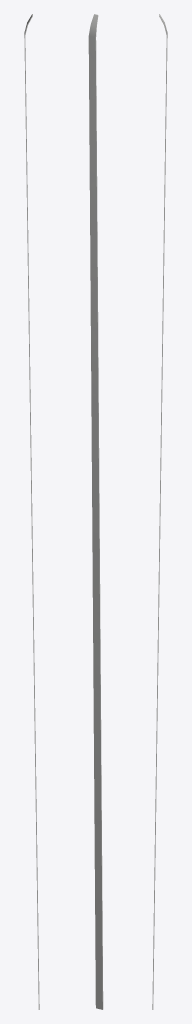
The model's file is PartyBalloons03_String1.FBX.
3 renders of one model, left to right at view 1: azimuth 90°, elevation 25°; view 2: azimuth 150°, elevation 25°; view 3: azimuth 270°, elevation 25°, orthographic.
Parts seen in each view (by area): view 1: PartyBalloons03_String1; view 2: PartyBalloons03_String1; view 3: PartyBalloons03_String1.
Boxes of the visible parts, x1,y1,x2,y2 form: PartyBalloons03_String1: (24, 14, 39, 1009); PartyBalloons03_String1: (88, 14, 103, 1009); PartyBalloons03_String1: (152, 14, 167, 1009).
Size of what is drawn, in the model's own units: 0.00739 by 1 by 0.0138.
